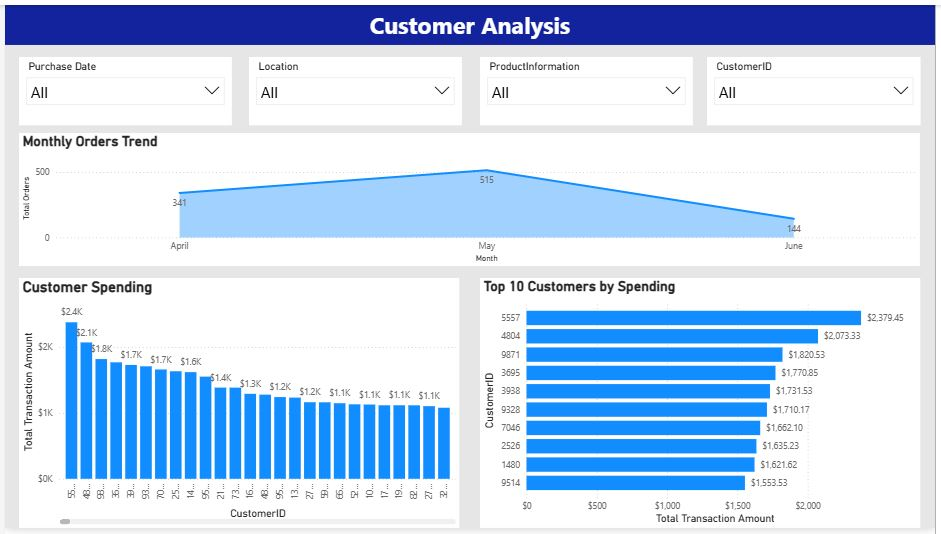

What the dashboard file says about the page in this screenshot:
{"tool":"powerbi","page":{"name":"Customer Analysis","canvas":[1280,720],"ordinal":1},"visuals":[{"type":"lineChart","title":"Monthly Orders Trend","fields":{"Category":["customer_data.Purchase Date.Variation.Date Hierarchy.Month"],"Y":["customer_data.Total Orders"]},"box":[19.8,176.8,1240.4,182.9],"z":0},{"type":"clusteredColumnChart","title":"Customer Spending","fields":{"Category":["customer_data.CustomerID"],"Y":["customer_data.Total Transaction Amount"]},"box":[19.8,376.4,606.5,344.4],"z":1},{"type":"clusteredBarChart","title":"Top 10 Customers by Spending","fields":{"Y":["customer_data.Total Transaction Amount"],"Category":["customer_data.CustomerID"]},"box":[653.7,376.4,606.5,344.4],"z":2},{"type":"slicer","fields":{"Values":["customer_data.Purchase Date"]},"box":[19.8,71.6,292.6,94.5],"z":3},{"type":"slicer","fields":{"Values":["customer_data.Location"]},"box":[335.2,71.6,292.6,94.5],"z":4},{"type":"slicer","fields":{"Values":["customer_data.ProductInformation"]},"box":[653.7,71.6,292.6,94.5],"z":5},{"type":"slicer","fields":{"Values":["customer_data.CustomerID"]},"box":[966.1,71.6,294.1,94.5],"z":6},{"type":"textbox","box":[0,0,1280,54.9],"z":7}]}

Visuals, with their boxes in screenshot pixels (x1, y1, x2, y2), scaled from the page's 1280x720 canvas onto the 941x534 screenshot:
"Monthly Orders Trend" lineChart: [left=15, top=131, right=926, bottom=267]
"Customer Spending" clusteredColumnChart: [left=15, top=279, right=460, bottom=533]
"Top 10 Customers by Spending" clusteredBarChart: [left=481, top=279, right=926, bottom=533]
slicer - customer_data.Purchase Date: [left=15, top=53, right=230, bottom=123]
slicer - customer_data.Location: [left=246, top=53, right=462, bottom=123]
slicer - customer_data.ProductInformation: [left=481, top=53, right=696, bottom=123]
slicer - customer_data.CustomerID: [left=710, top=53, right=926, bottom=123]
textbox: [left=0, top=0, right=940, bottom=41]
